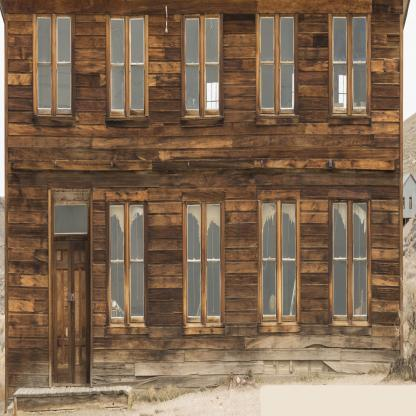Building Outline: (0, 0, 410, 412)
Door: (53, 238, 89, 384)
Facade: (0, 0, 410, 415)
Floor Slab: (5, 156, 402, 170)
Ground Floor: (5, 170, 402, 402)
Top Floor: (5, 0, 402, 155)
Window: (334, 203, 367, 321), (111, 205, 144, 323), (188, 205, 221, 323), (263, 205, 296, 323), (111, 18, 144, 115), (37, 18, 70, 114), (186, 18, 219, 114), (334, 18, 367, 113), (261, 18, 294, 113), (53, 201, 89, 238)
